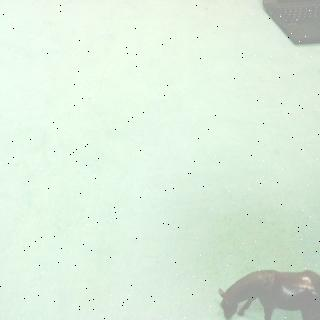horse: (216, 264, 320, 320)
